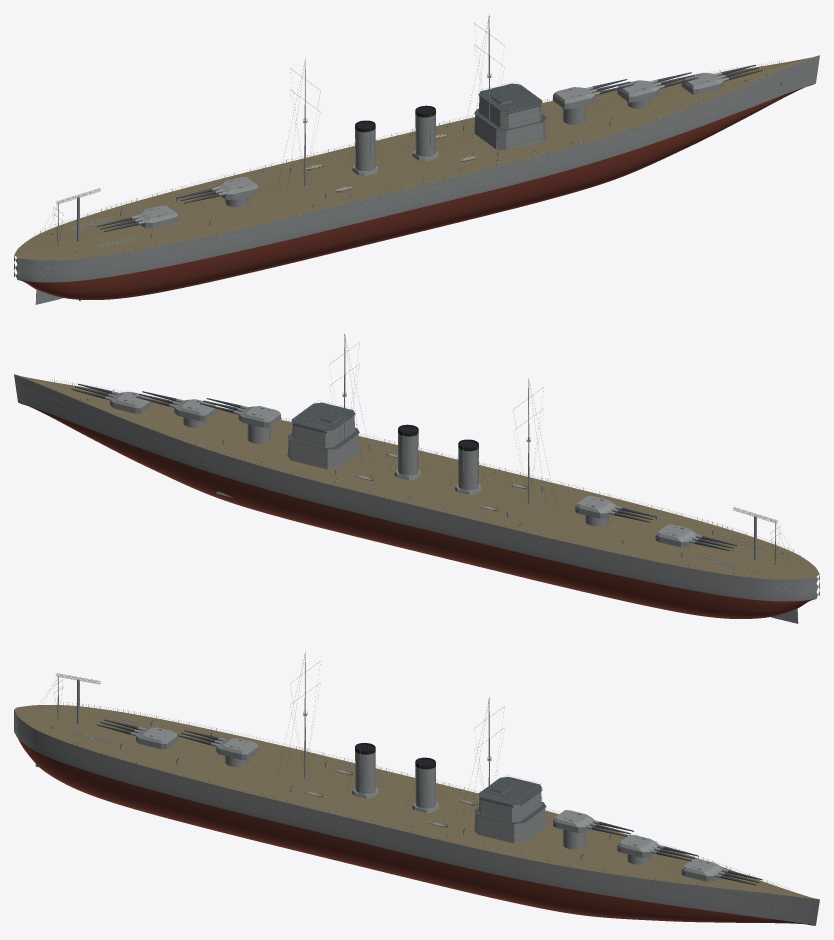
File: united_states_bb27.glb
3 views of the same model, one above another, from view 1: azimuth 30°, elevation 25°; view 2: azimuth 150°, elevation 25°; view 3: azimuth 330°, elevation 25° (orthographic).
Parts seen in each view (by area): view 1: United States class; view 2: United States class; view 3: United States class.
Boxes of the visible parts, x1,y1,x2,y2 form: United States class: (14, 14, 819, 304); United States class: (14, 333, 819, 623); United States class: (14, 652, 819, 925).
Size of the model in its own units: 310 by 67.3 by 38.59.
Materials: 9 (8 with a texture image).
